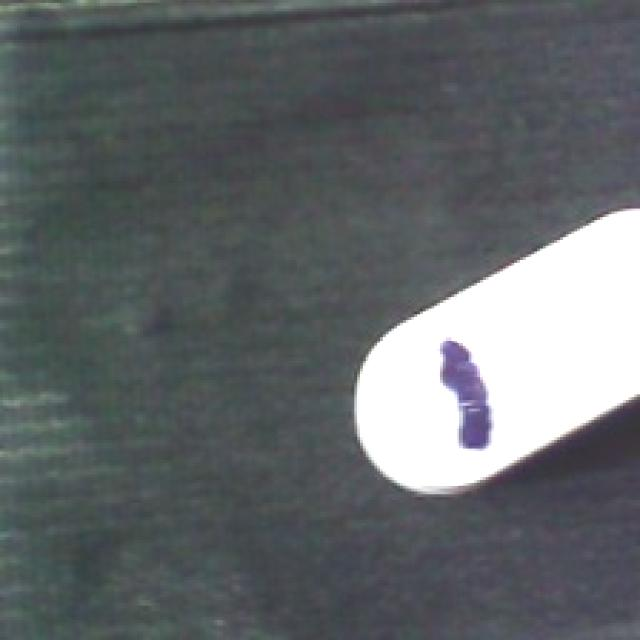defected: (349, 199, 640, 502)
